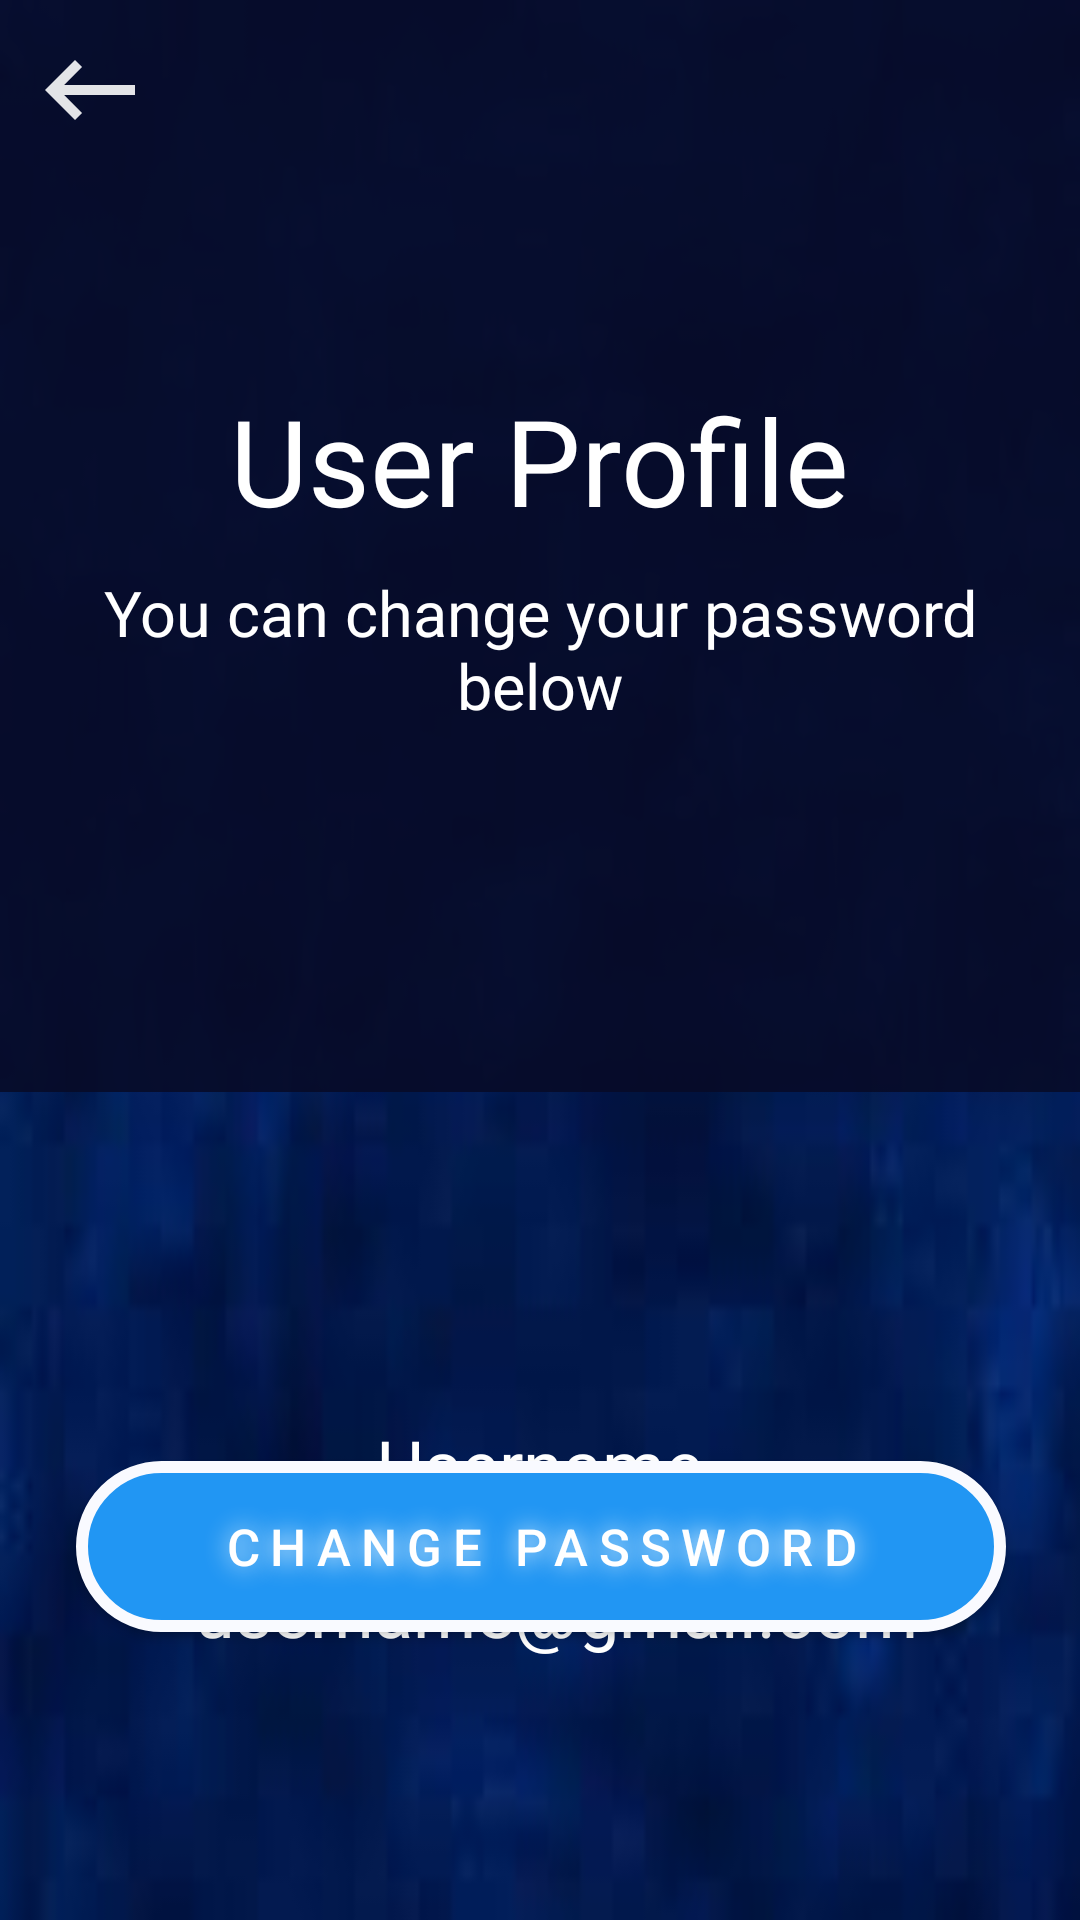

Locate icon controls on the screen. Image size 1080 × 1920, boxes as [left=x1, top=y1, right=x2, bottom=y2].
keyboard backspace: [left=45, top=60, right=135, bottom=120]
